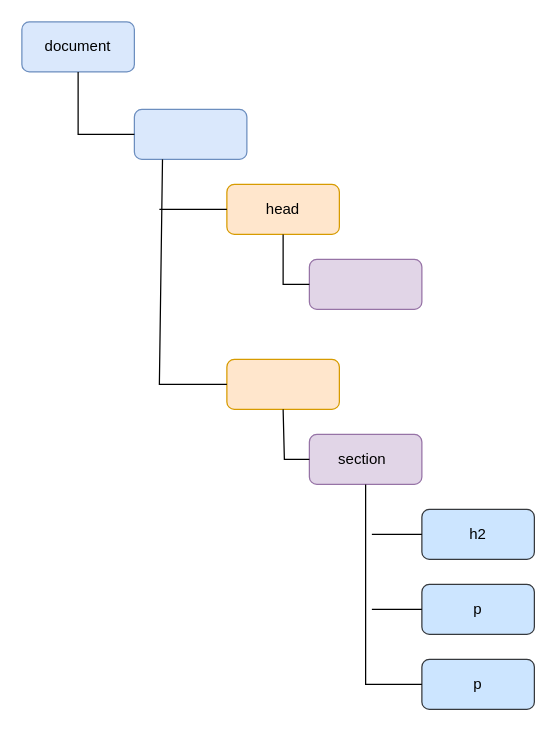
Image size: 556x731. Some labels were removed from this diagram. Each missing label, with the centre of its shape:
body: (x=282, y=383)
html: (x=190, y=133)
title: (x=365, y=283)
